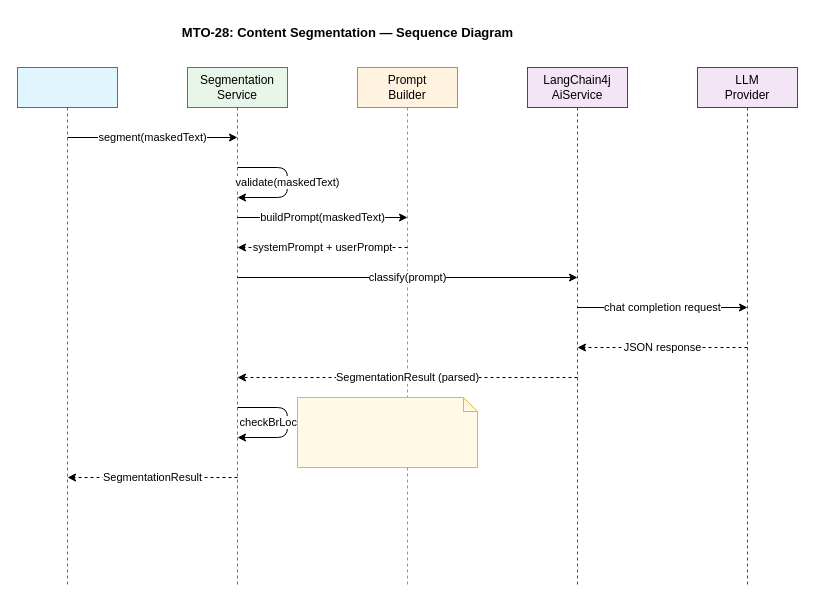
Image size: 815x605. Some labels were removed from this diagram. The shapes that lost their labels are listed below. From the top down, each one's box as (x1, y1, x2, y2) in pixels, then its label:
(16, 66, 118, 588): Pipeline
(296, 396, 478, 468): alt [brLocalOnly=true AND cloudProvider AND BR detected] → reprocess via Ollama
